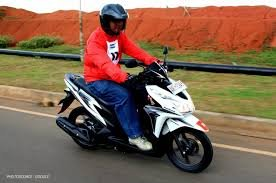motor: (59, 66, 221, 168)
